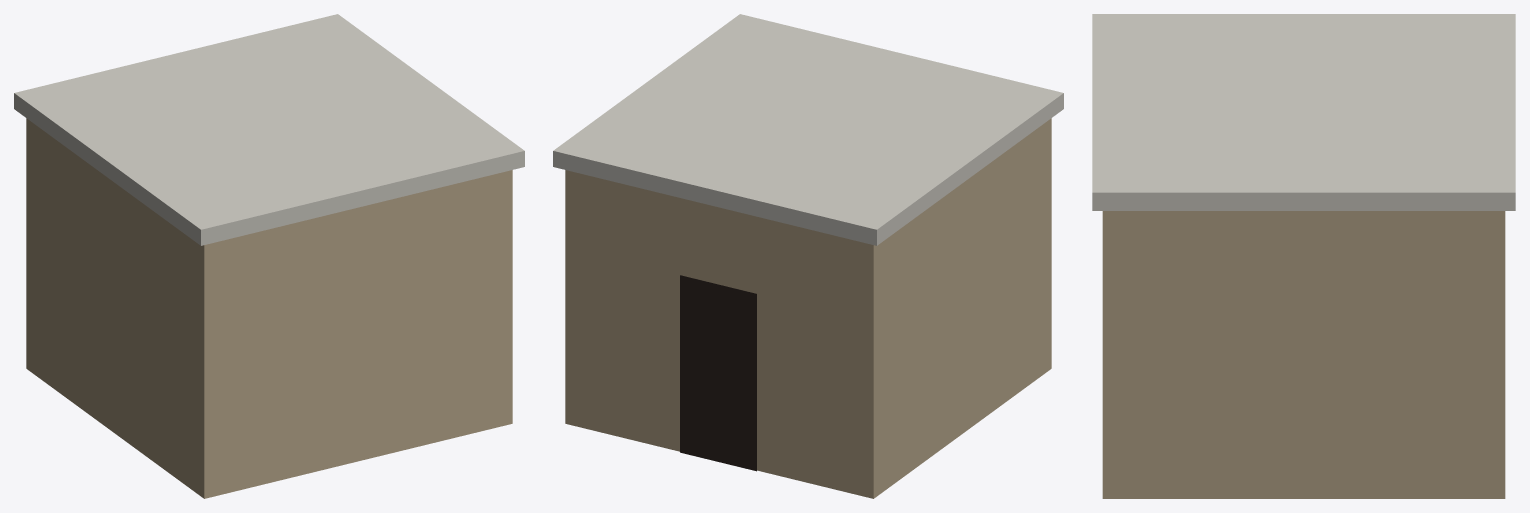
The model's file is roof-penthouse.glb.
3 views of the same model, side by side, from view 1: azimuth 30°, elevation 25°; view 2: azimuth 150°, elevation 25°; view 3: azimuth 270°, elevation 25° (orthographic). The views are drawn at different scales.
Parts seen in each view (by area): view 1: unit; view 2: unit; view 3: unit.
Part boxes in pixels (x1,y1,x2,y2): unit: [14, 14, 524, 498]; unit: [553, 14, 1063, 498]; unit: [1092, 14, 1515, 498].
Size of the model in its own units: 4.2 by 3.4 by 4.2.
